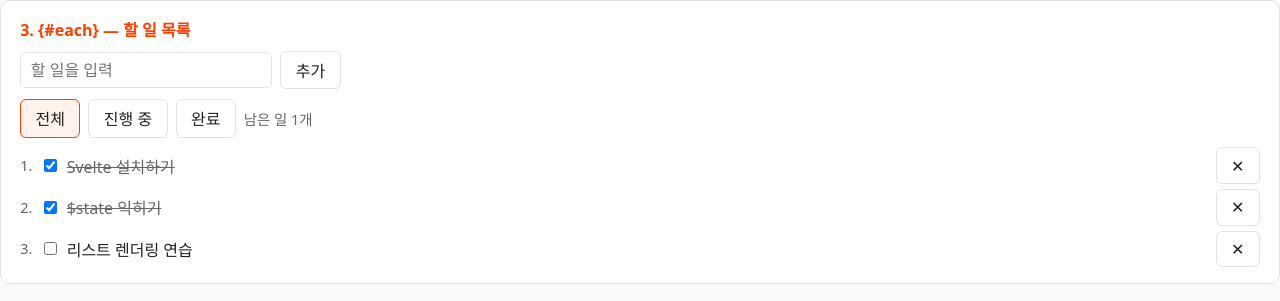
Scenario: TodoList (study4) › 체크하면 남은 개수가 줄고 "진행 중" 목록에서 사라진다
The width and height of the screenshot is (1280, 301).
Click the button "진행 중": (128, 118) 88,99 -> 168,138
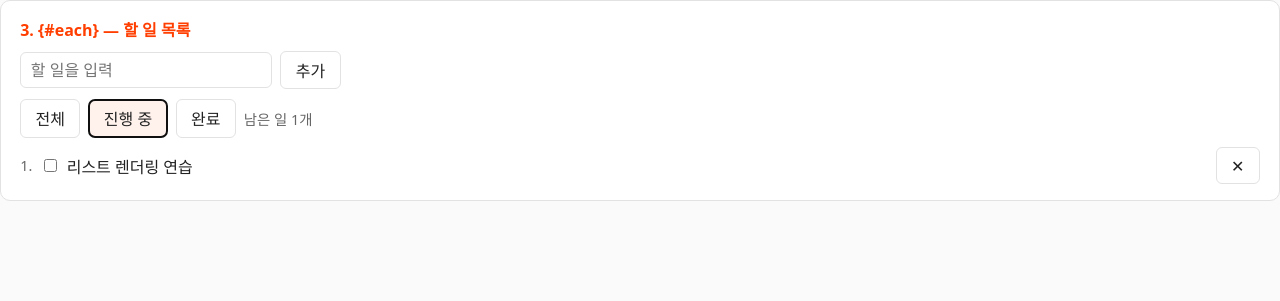
Click the checkbox: (51, 166) 44,159 -> 57,172
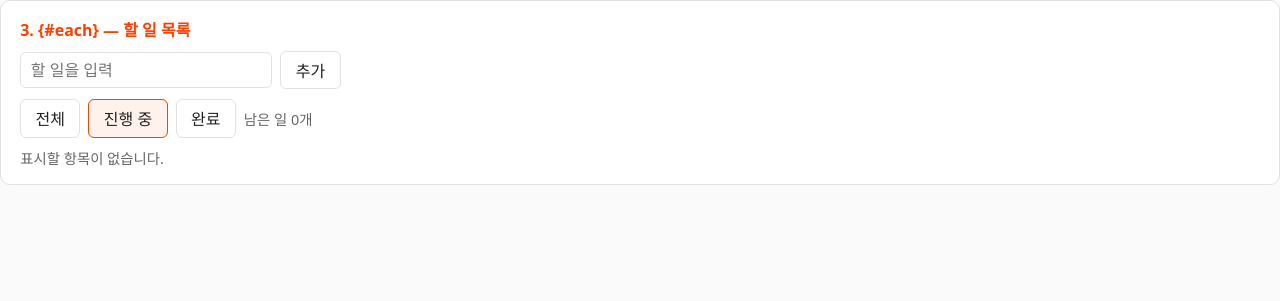
Check: the text "남은 일 0개" is shown, box 244,108 -> 312,129
Check: the list item "표시할 항목이 없습니다." is shown, box 20,149 -> 164,168
